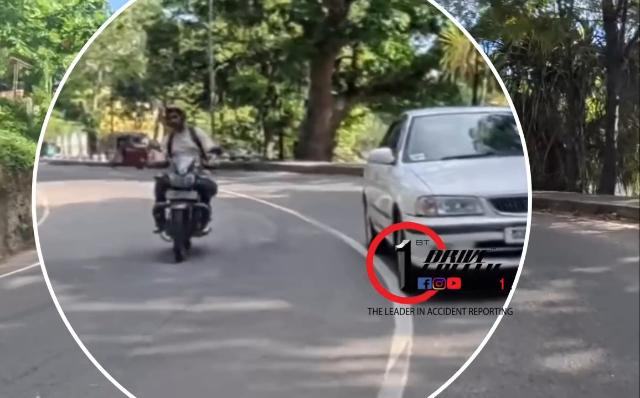illegal overtaking: (134, 89, 250, 275)
